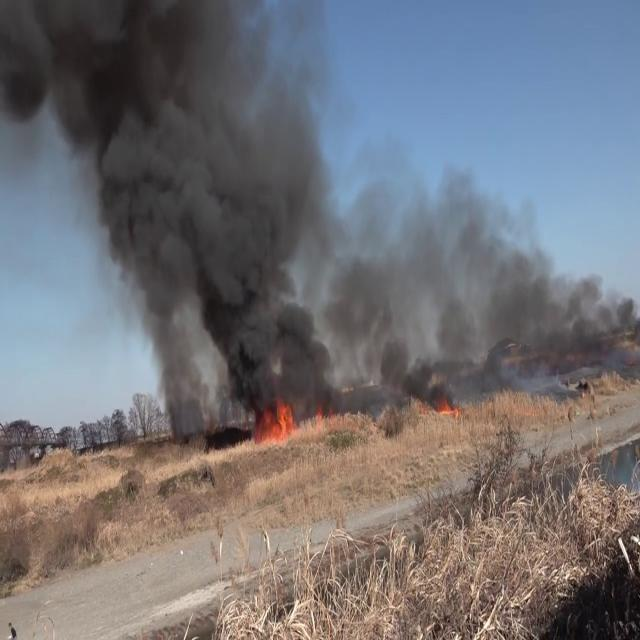Fire: (250, 391, 304, 446)
Smoke: (0, 0, 358, 423), (344, 160, 640, 386)
